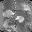people: (3, 9, 15, 18), (3, 19, 13, 29), (16, 15, 24, 23)
